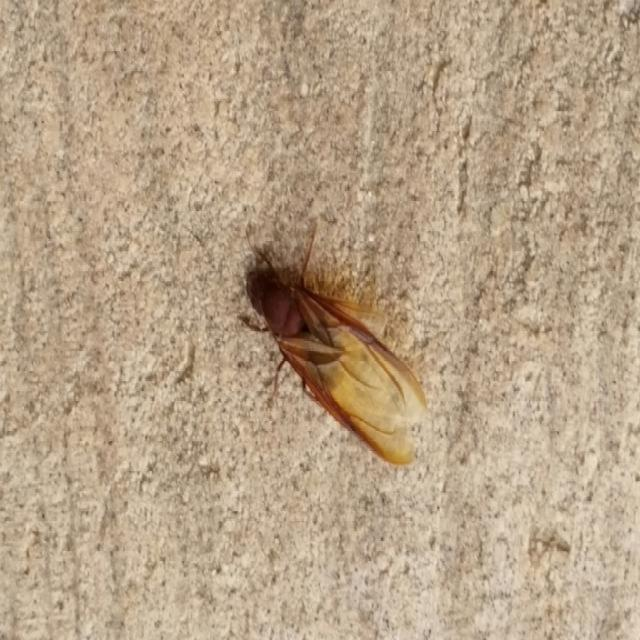Alive-Female-Alate: (237, 222, 428, 468)
